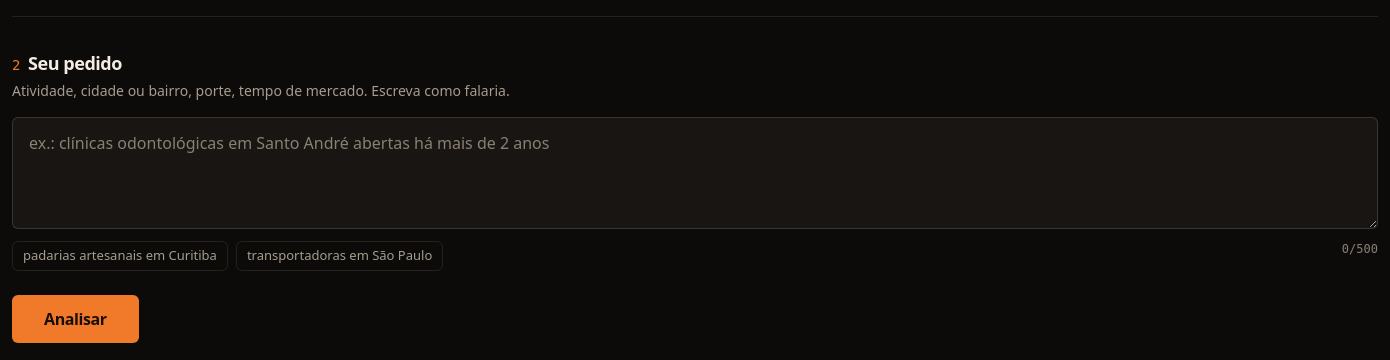
Scenario: RequestForm › contador acompanha o texto digitado
The image size is (1390, 360).
Type "padarias" into the text box labelled "2Seu pedido" at (695, 173), box [12,117,1378,229]
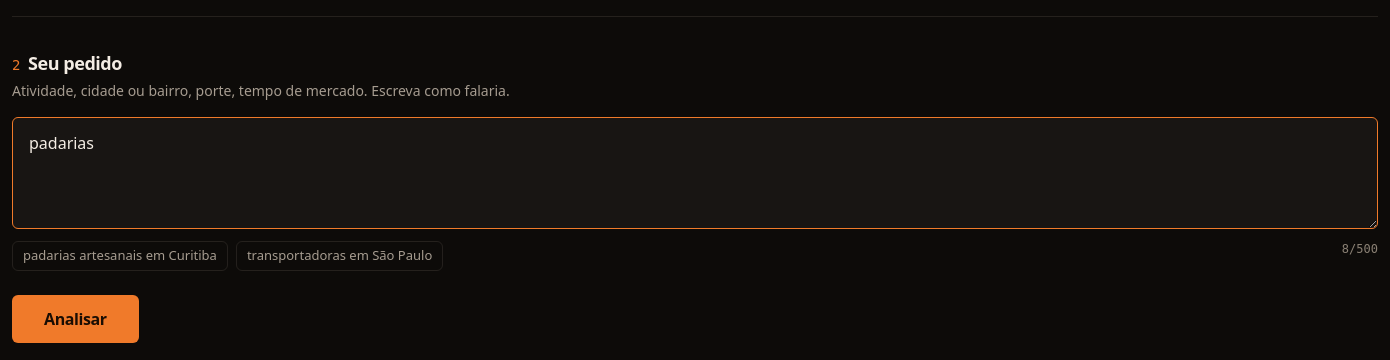
Check: the text "8/500" is shown, box [1342,241,1378,257]
